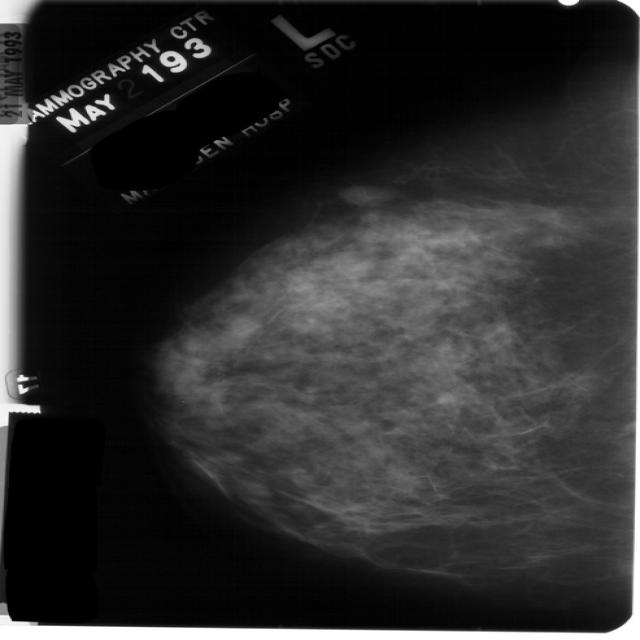tumour: (335, 183, 396, 205)
